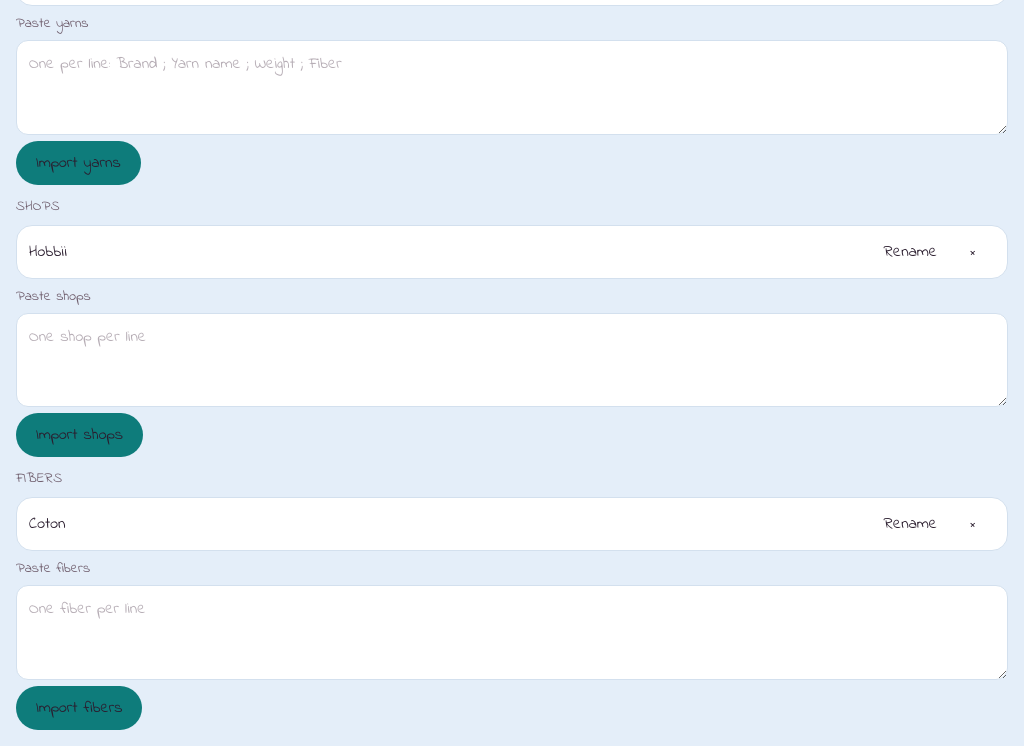
Scenario: Save is disabled when the name is cleared
The width and height of the screenshot is (1024, 746).
(page scrolled)
Step 1. Click the button with aria-label "Rename Coton" → x=910, y=524, box [876,502,945,546]
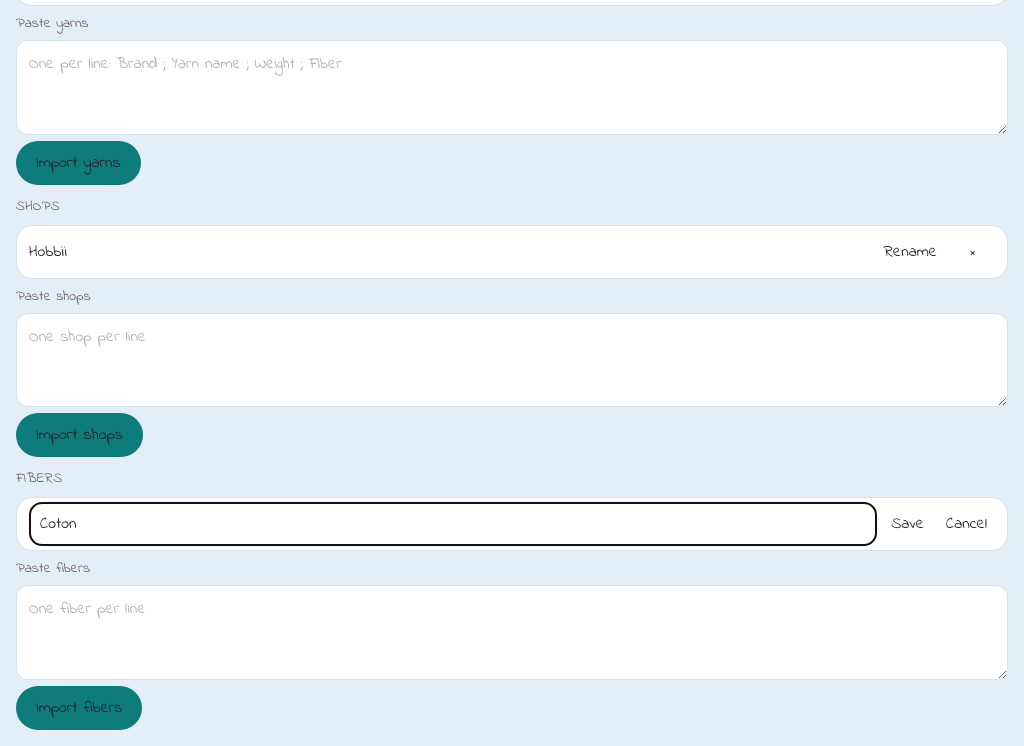
Step 2. Clear the field named "New name for Coton" → x=453, y=524, box [29,502,877,546]
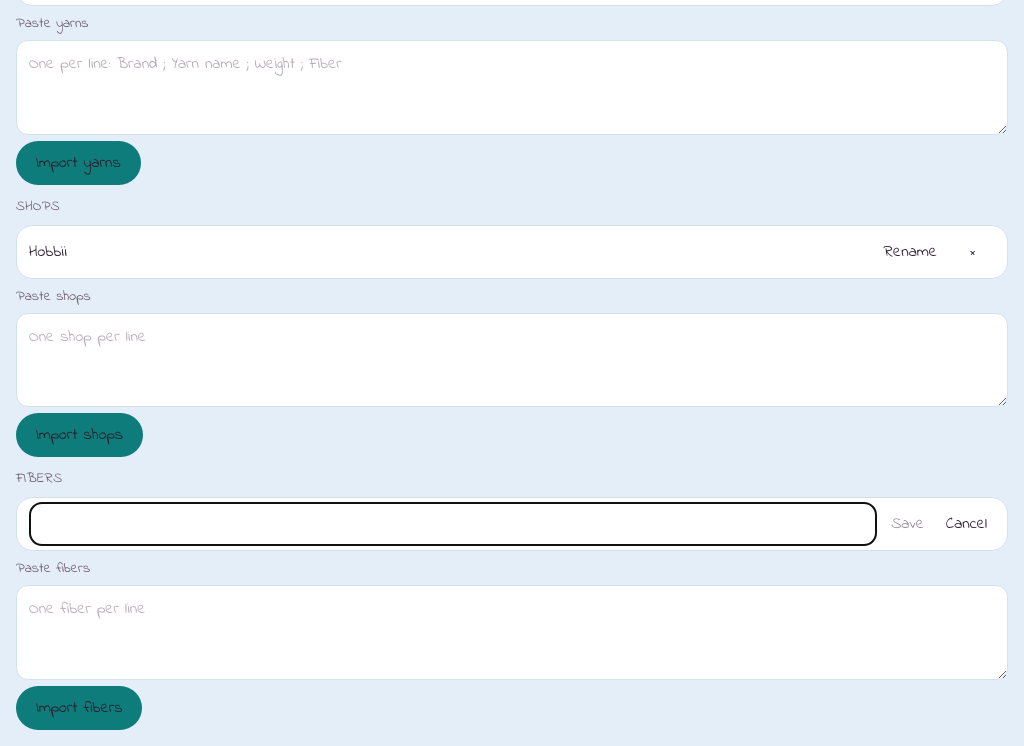
Expected: the button "Save" is disabled, [883,502,932,546]
